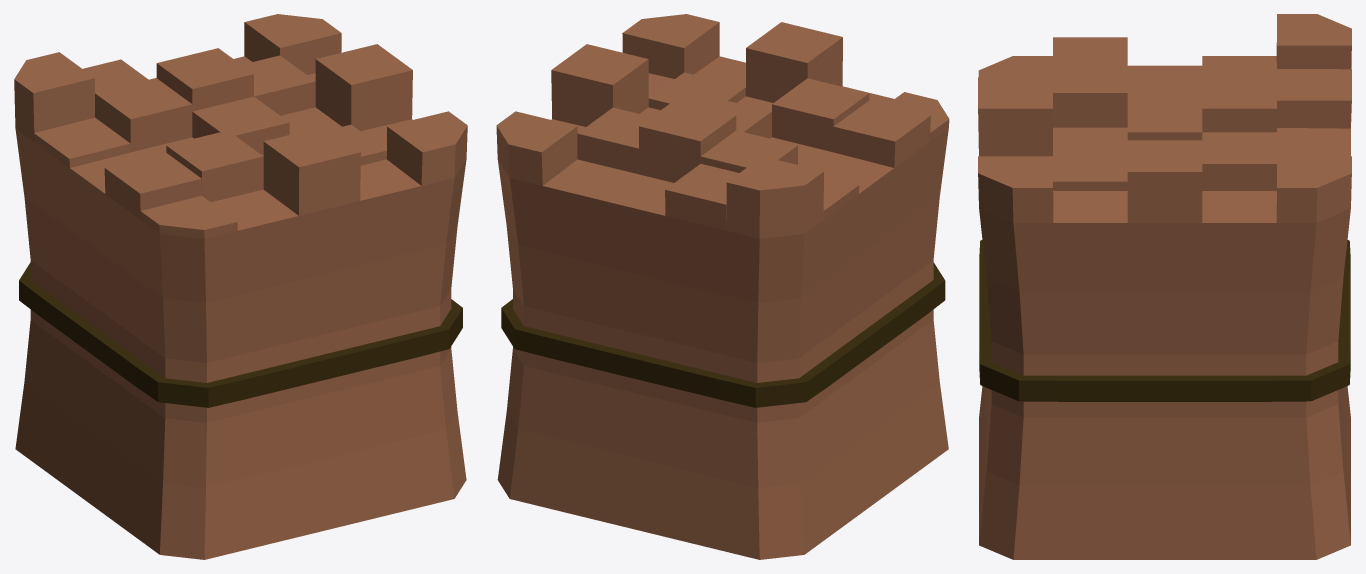
File: Wheat.fbx
The picture shows the model from 3 angles, left to right: view 1: azimuth 30°, elevation 25°; view 2: azimuth 150°, elevation 25°; view 3: azimuth 270°, elevation 25°; orthographic projection. The views are drawn at different scales.
Visible parts, largest first — view 1: Wheat; view 2: Wheat; view 3: Wheat.
Part boxes in pixels (bbox=[...]): Wheat: bbox=[14, 14, 467, 559]; Wheat: bbox=[496, 14, 949, 559]; Wheat: bbox=[978, 14, 1351, 559].
Size of the model in its own units: 97.31 by 112 by 97.31.
